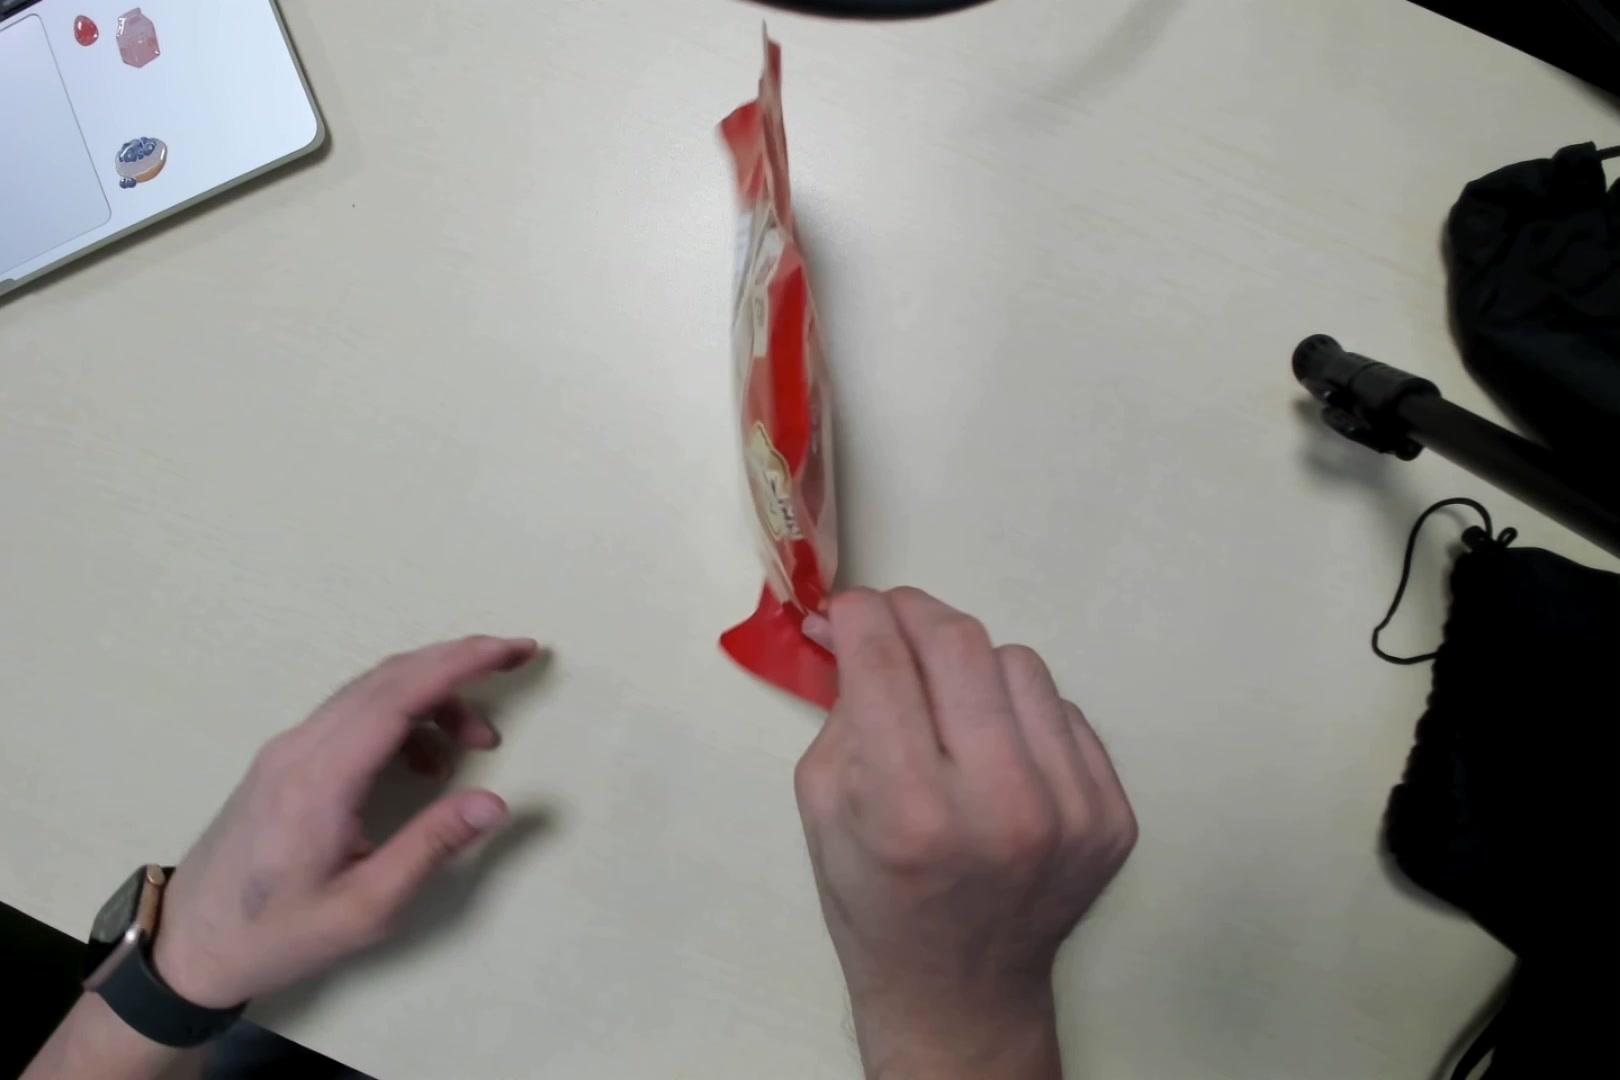DriedMeatSeafood_100-199g_NonHalal_NonHealthy: (721, 40, 850, 706)
